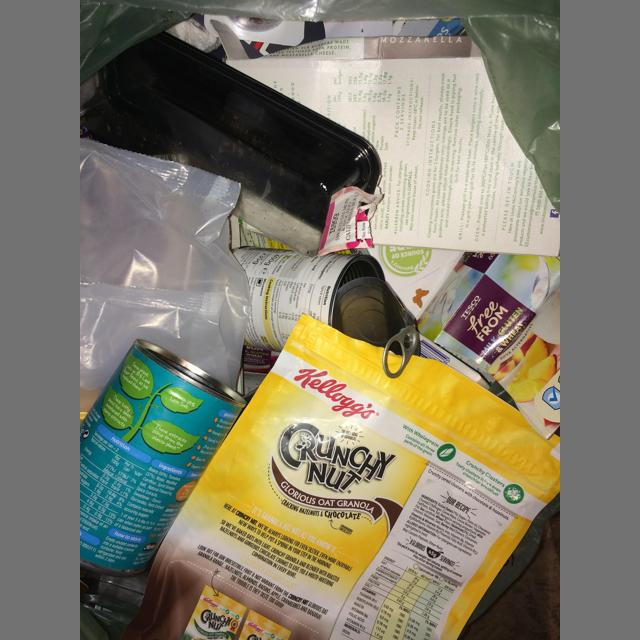litter: (119, 314, 560, 640), (80, 0, 560, 215), (210, 19, 560, 257), (80, 31, 380, 258), (80, 138, 252, 412), (80, 339, 247, 577), (415, 252, 560, 440), (231, 246, 419, 378), (204, 14, 305, 46), (165, 16, 222, 53)
